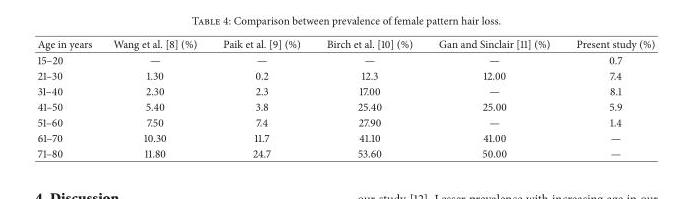table: (36, 36, 654, 160)
table column: (425, 36, 562, 160), (312, 36, 425, 160), (101, 36, 209, 160), (209, 36, 312, 160), (562, 36, 654, 160), (36, 36, 101, 160)
table column header: (36, 36, 654, 51)
table row: (36, 51, 654, 67), (36, 82, 654, 98), (36, 98, 654, 114), (36, 129, 654, 145), (36, 36, 654, 51), (36, 67, 654, 82), (36, 114, 654, 129), (36, 145, 654, 160)
